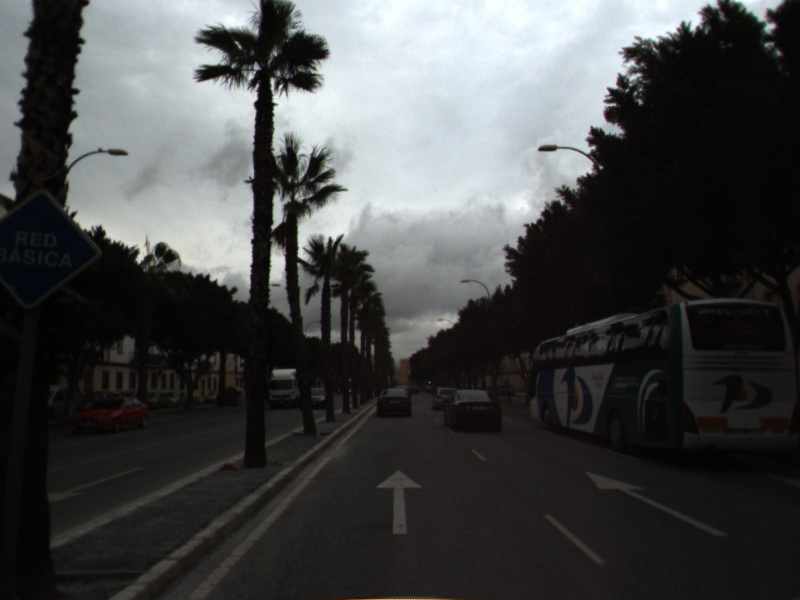STRAIGHT: (583, 469, 730, 539), (373, 467, 425, 536)
